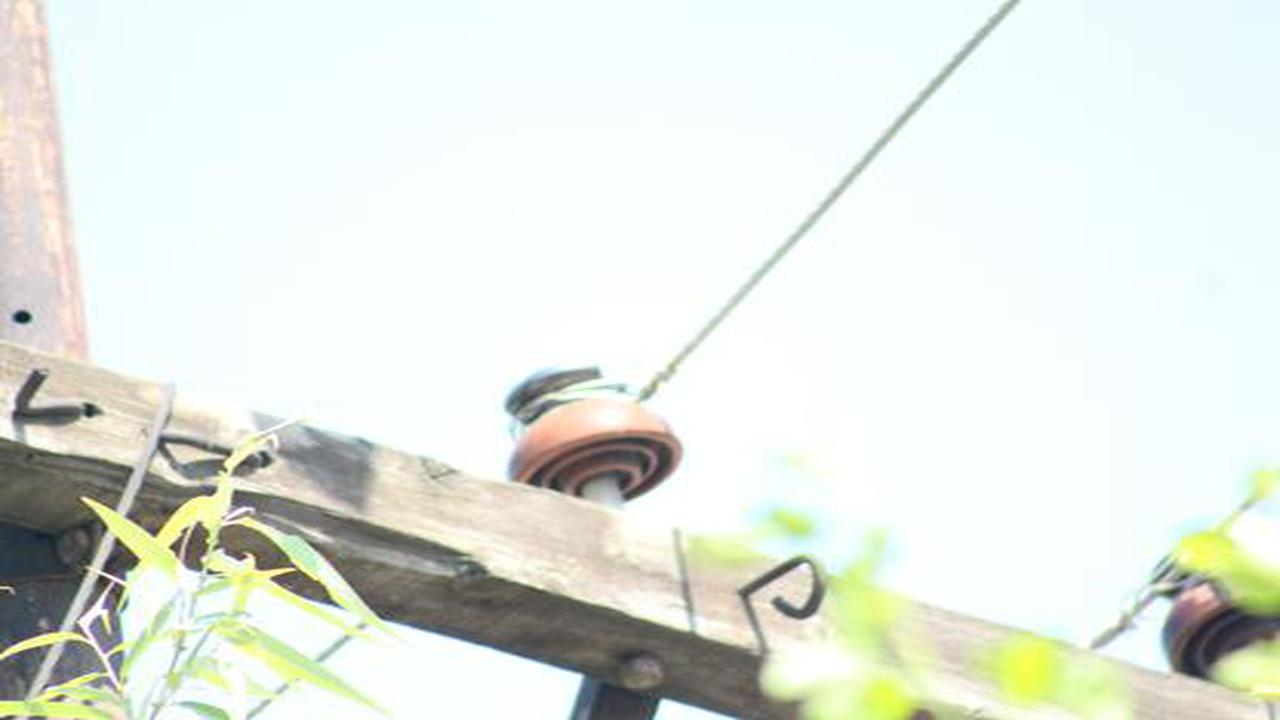insulator_pin: (498, 359, 691, 501)
